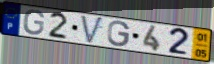2: (166, 27, 193, 58), (48, 11, 70, 42)
4: (142, 24, 162, 54)
G: (106, 20, 131, 48), (22, 9, 46, 36)
V: (79, 14, 105, 46)
